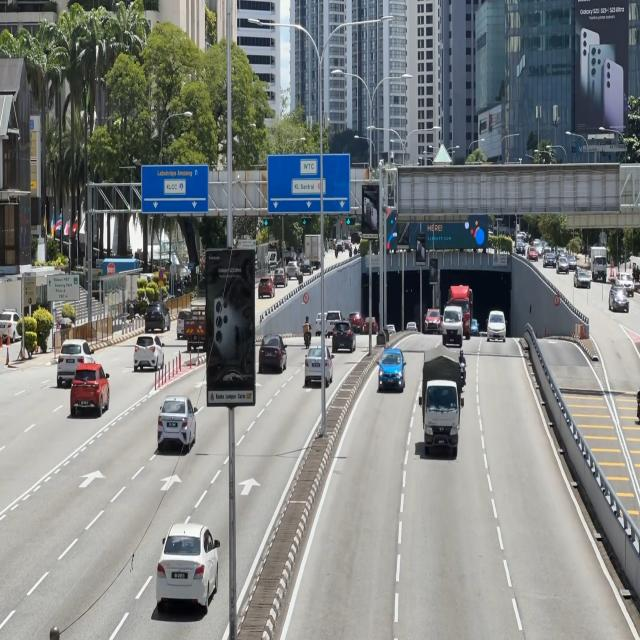Car: (156, 522, 221, 610), (419, 347, 464, 460), (70, 362, 112, 421), (157, 394, 198, 453), (57, 336, 97, 385), (378, 341, 408, 397), (134, 332, 165, 373), (304, 344, 334, 386), (258, 334, 288, 373), (440, 305, 464, 351), (144, 298, 171, 334), (484, 309, 510, 345)
